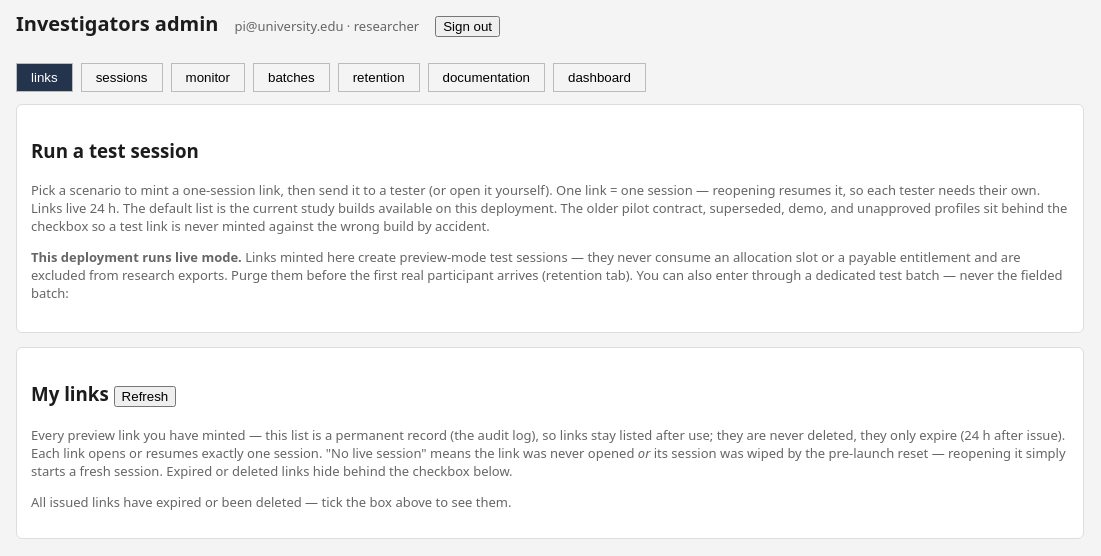
Test case: AdminApp › documentation tab lists files with view and download links
Click the button "documentation": (486, 77) [428,63,545,92]
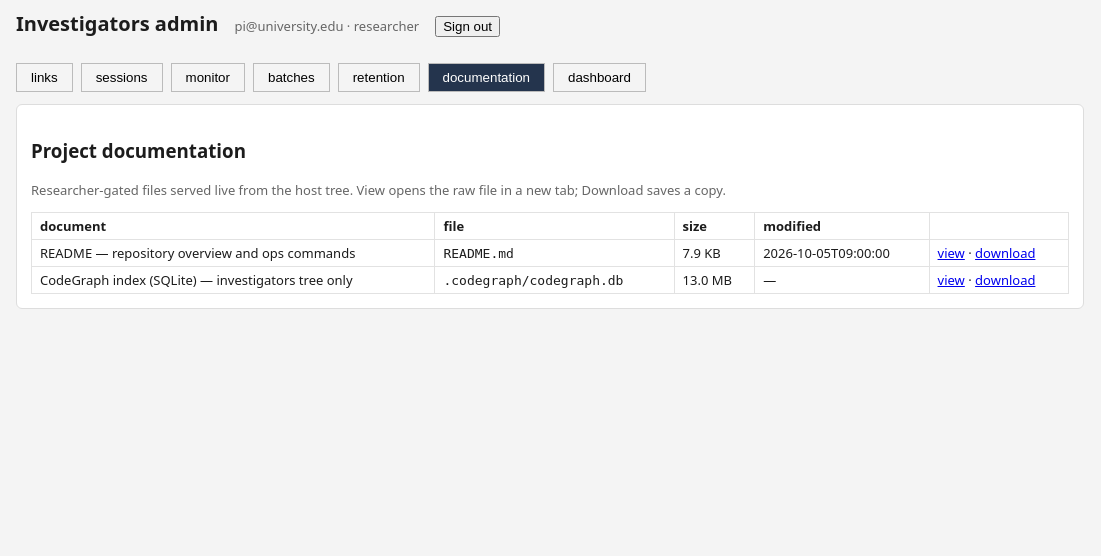
Expected: the text "README — repository overview and ops commands" is shown, [32,240,435,267]
Expected: the text "7.9 KB" is shown, [674,240,755,267]
Expected: the text "13.0 MB" is shown, [674,267,755,294]
